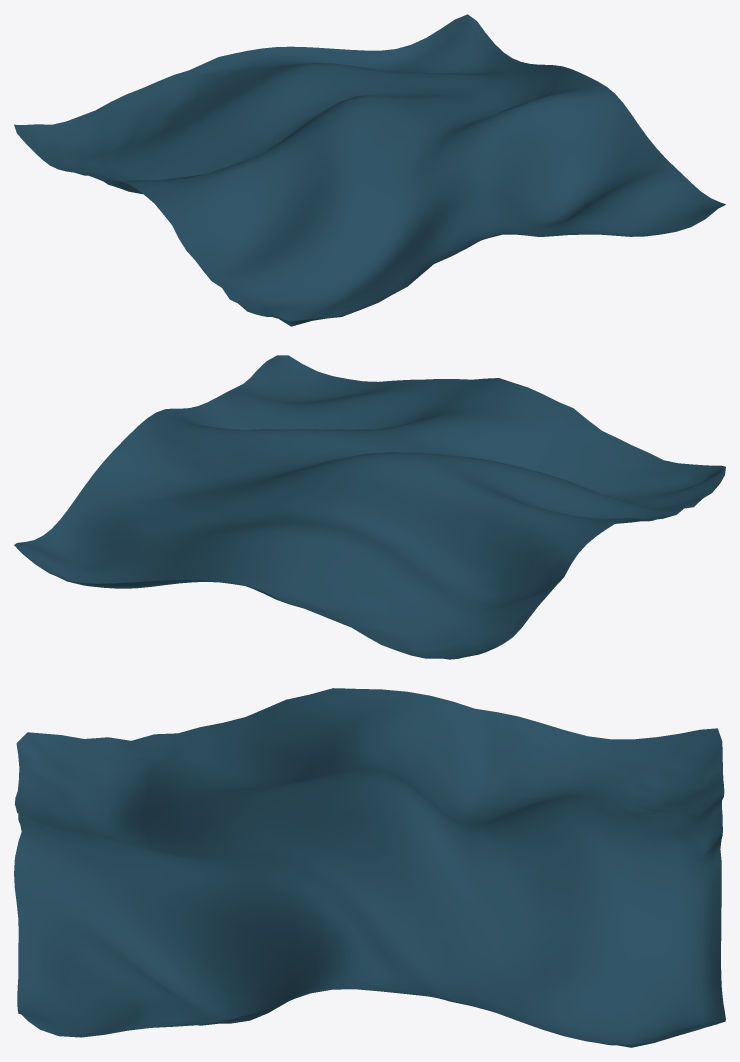
The model's file is PatientBlanket.fbx.
3 renders of one model, top to bottom at view 1: azimuth 30°, elevation 25°; view 2: azimuth 150°, elevation 25°; view 3: azimuth 270°, elevation 25°, orthographic. The views are drawn at different scales.
Parts seen in each view (by area): view 1: CL_Extract82_SeamsColor; view 2: CL_Extract82_SeamsColor; view 3: CL_Extract82_SeamsColor.
Boxes of the visible parts, left/top/right/bottom form: CL_Extract82_SeamsColor: left=14, top=14, right=725, bottom=326; CL_Extract82_SeamsColor: left=14, top=355, right=725, bottom=659; CL_Extract82_SeamsColor: left=14, top=688, right=725, bottom=1047.
Bounding box in the file's own units: 199 × 36.92 × 199.
